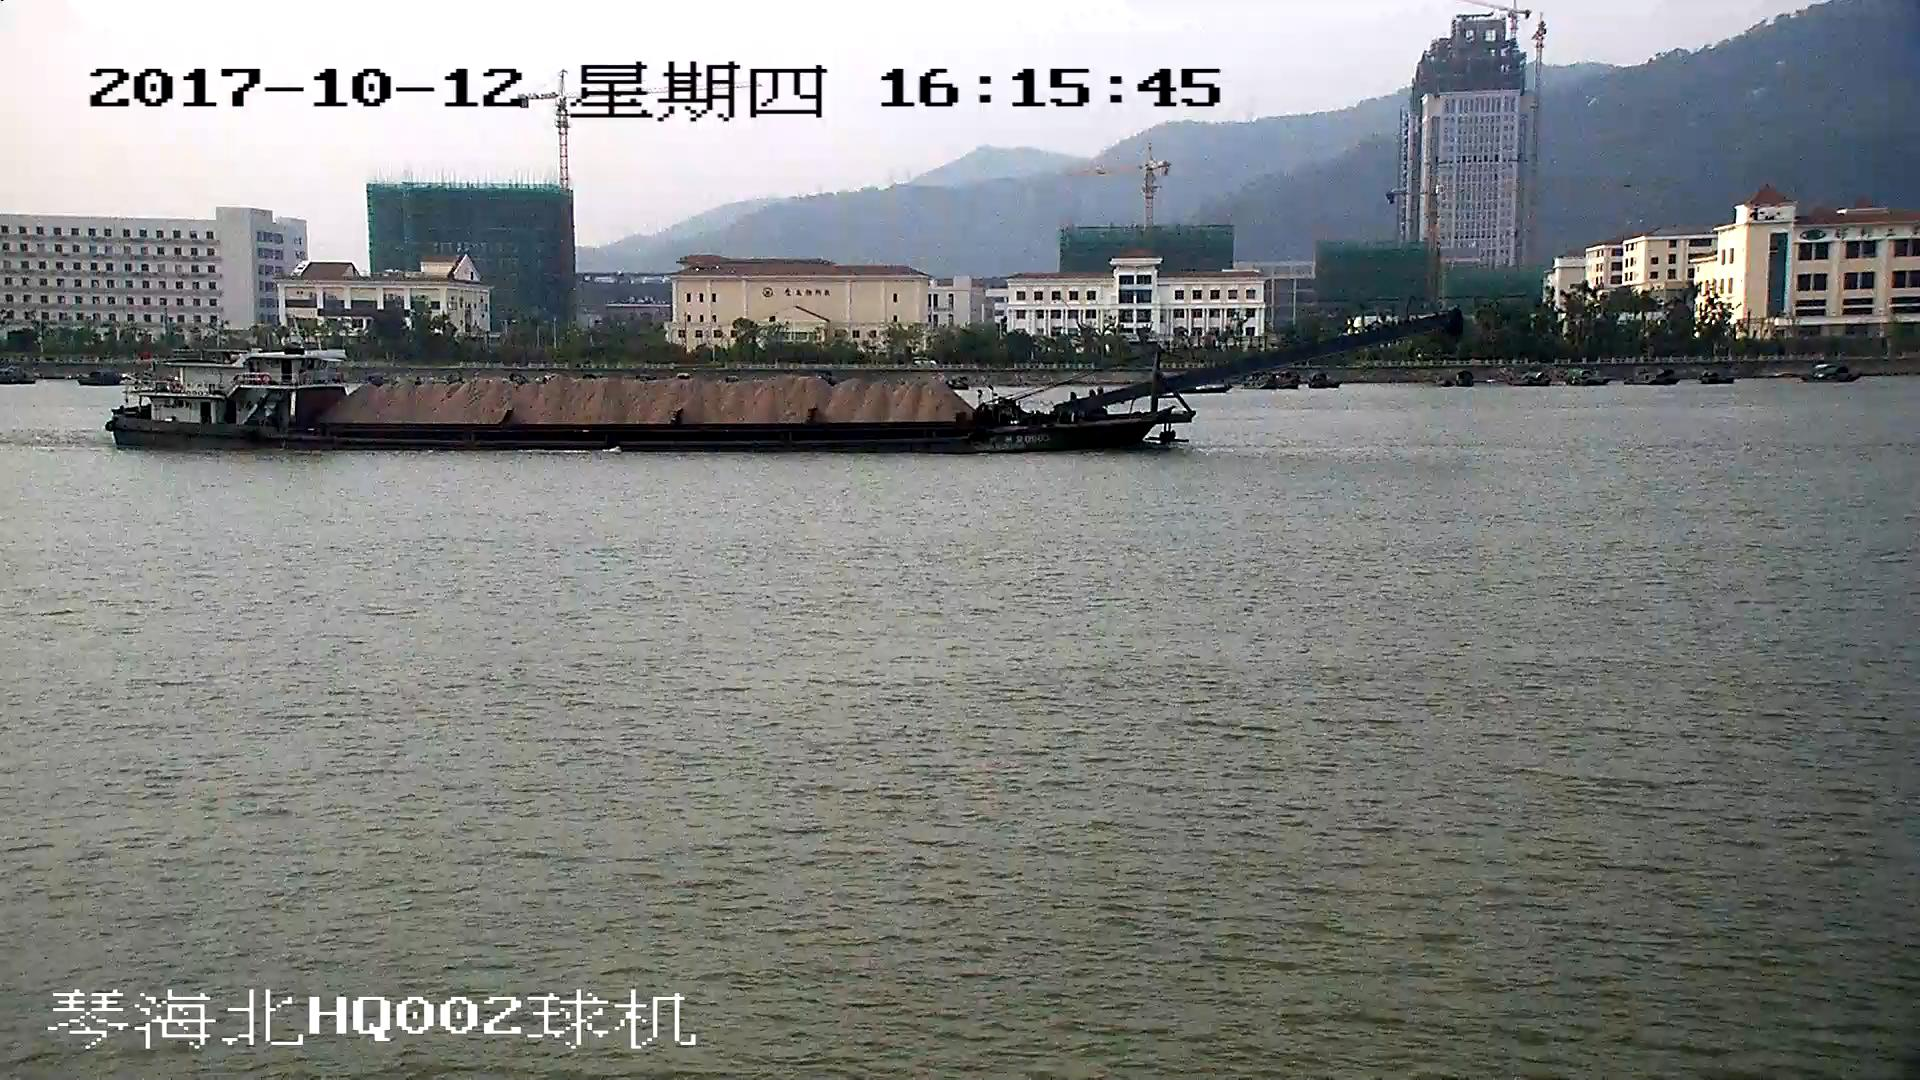ore carrier: (110, 312, 1456, 452)
